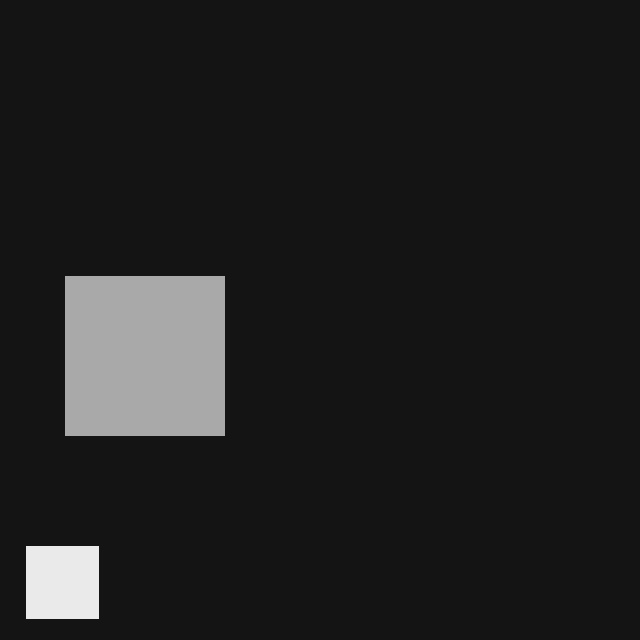square: (65, 276, 224, 435), (26, 546, 98, 618)
